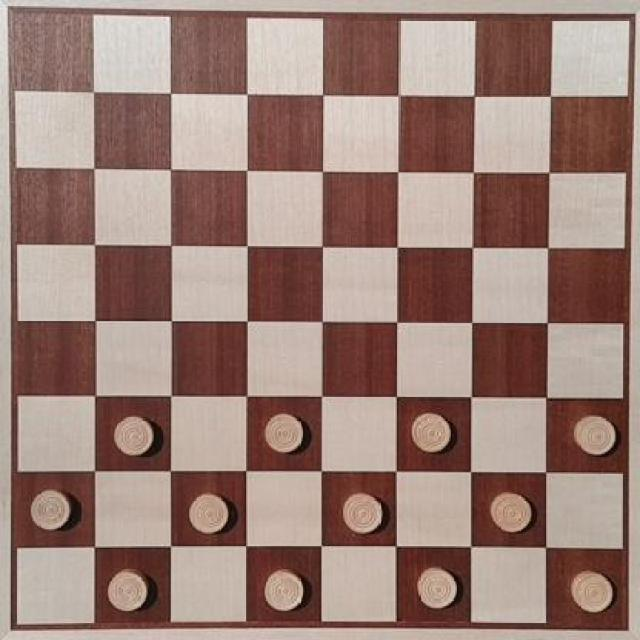BOARD: (9, 9, 627, 629)
white: (106, 404, 163, 461), (565, 562, 619, 619), (564, 411, 622, 463), (26, 483, 82, 536), (482, 488, 540, 539), (106, 564, 160, 616), (184, 486, 234, 539), (260, 565, 313, 615), (408, 407, 457, 459), (257, 409, 310, 457), (412, 565, 462, 615), (336, 490, 384, 538)
